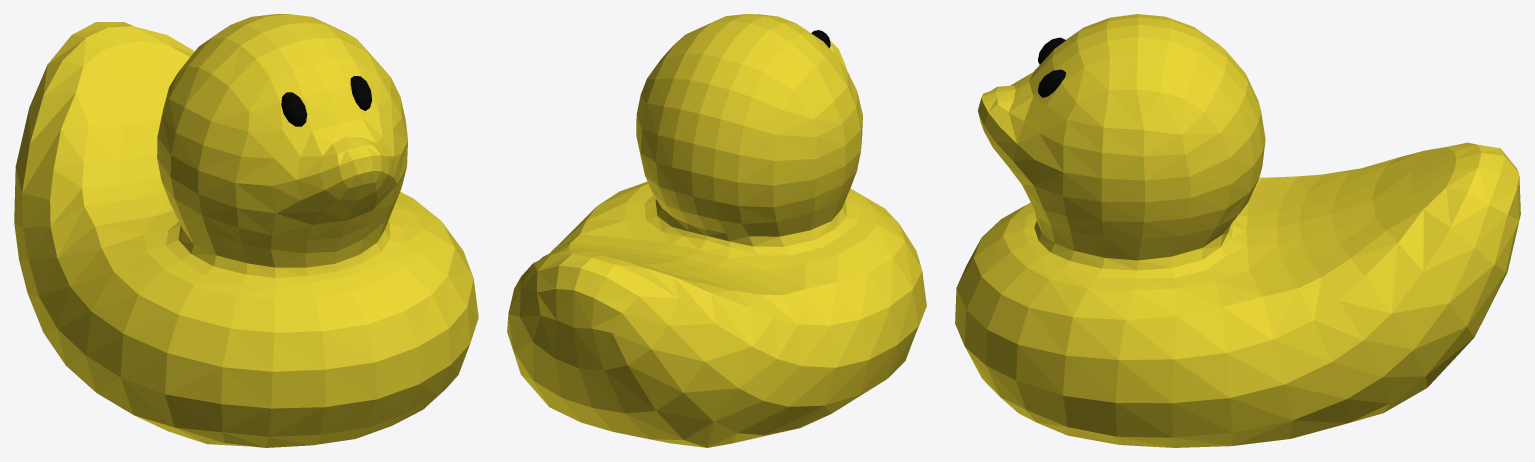
File: item4.fbx
3 renders of one model, left to right at view 1: azimuth 30°, elevation 25°; view 2: azimuth 150°, elevation 25°; view 3: azimuth 270°, elevation 25°, orthographic. The views are drawn at different scales.
Parts seen in each view (by area): view 1: duck, duck.001, duck.002; view 2: duck; view 3: duck.
Part boxes in pixels (x1,y1,x2,y2): duck: [14, 14, 478, 447]; duck.001: [281, 92, 307, 126]; duck.002: [350, 76, 372, 110]; duck: [507, 14, 926, 447]; duck: [955, 14, 1520, 447].
Size of the model in its own units: 1093 by 1093 by 1516.
